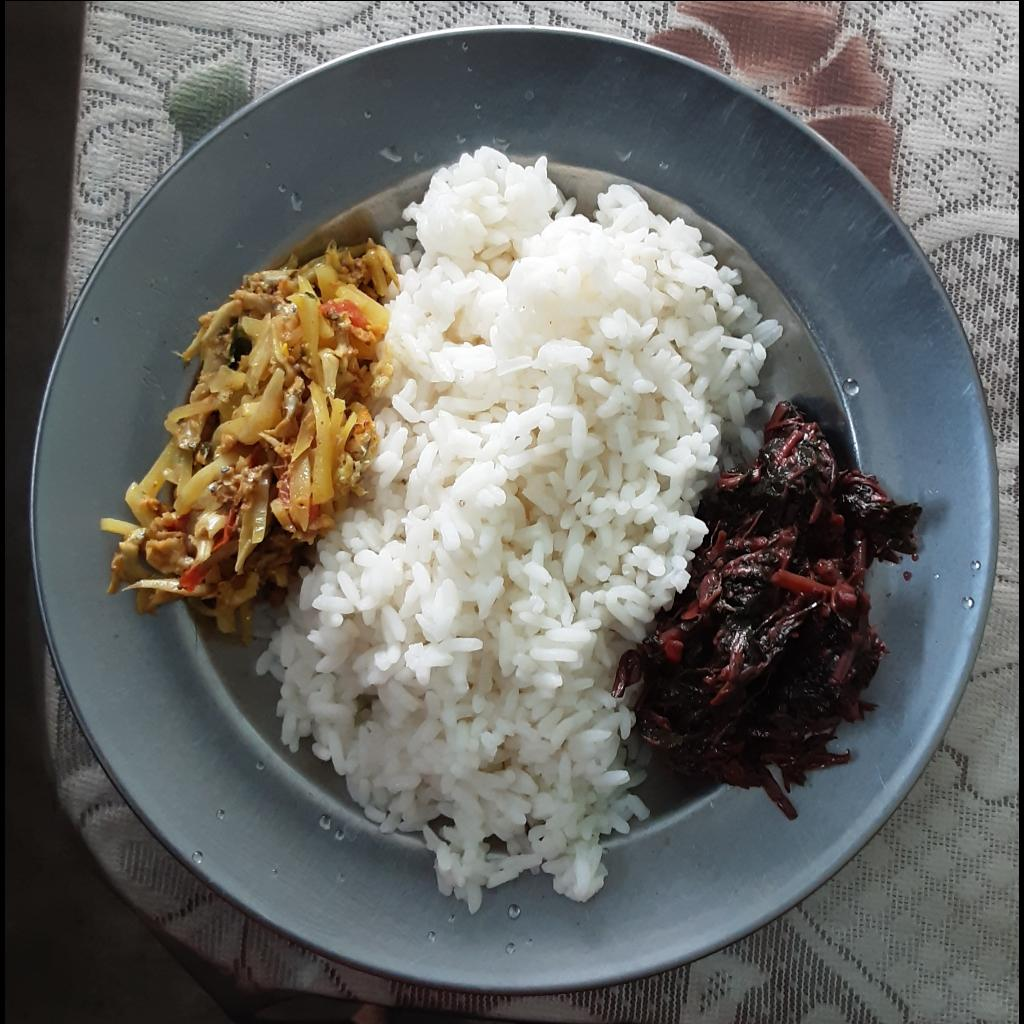korola-vaji: (101, 234, 400, 642)
lal-shak: (619, 398, 924, 822)
rice: (253, 140, 785, 918)
